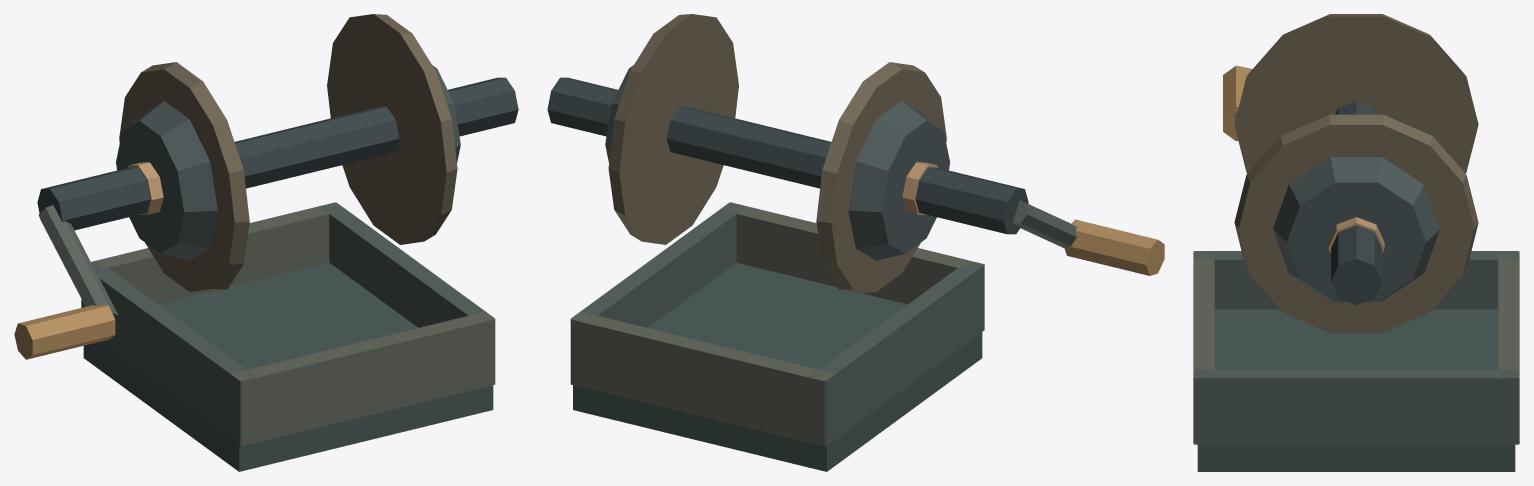
The model's file is wetstone_hardware.glb.
3 views of the same model, side by side, from view 1: azimuth 30°, elevation 25°; view 2: azimuth 150°, elevation 25°; view 3: azimuth 270°, elevation 25° (orthographic). The views are drawn at different scales.
Parts seen in each view (by area): view 1: wetstone_hardware; view 2: wetstone_hardware; view 3: wetstone_hardware.
Boxes of the visible parts, x1,y1,x2,y2 form: wetstone_hardware: [14, 14, 518, 471]; wetstone_hardware: [547, 14, 1164, 471]; wetstone_hardware: [1193, 14, 1519, 471].
Bounding box in the file's own units: 1.04 × 0.62 × 0.535.
